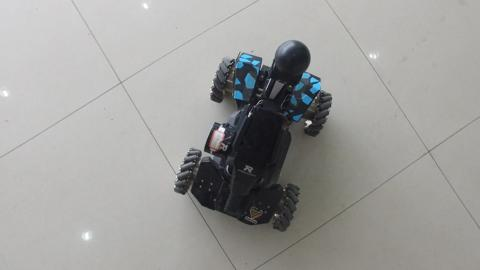chariot: (172, 32, 320, 226)
